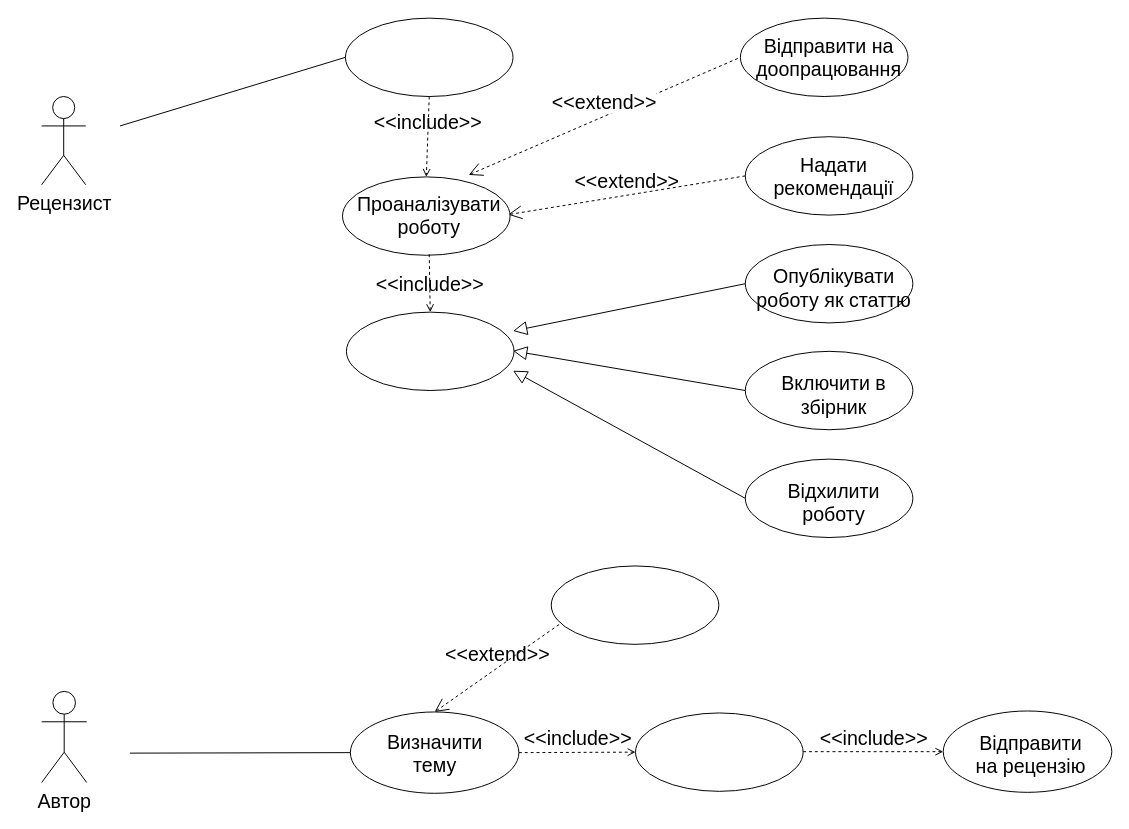
This 1129x829 diagram has some shape labels left out. The centre of each missing label's shape, as x and y in pixels:
"Консультація з наук. керівником" goes at point 634,604.
"Написати роботу" goes at point 719,751.
"Отримати роботу" goes at point 428,57.
"Прийняти рішення щодо публікації" goes at point 429,351.
